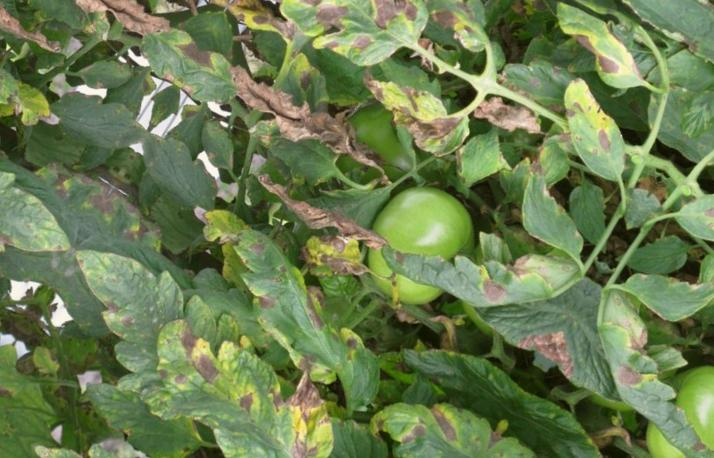Tomato Early blight leaf: (154, 209, 423, 419), (106, 292, 363, 458), (378, 177, 581, 360), (232, 0, 440, 92), (357, 52, 485, 175), (361, 355, 510, 458), (523, 79, 646, 187), (540, 0, 658, 99), (9, 402, 212, 458), (379, 0, 508, 61), (173, 41, 248, 119)
